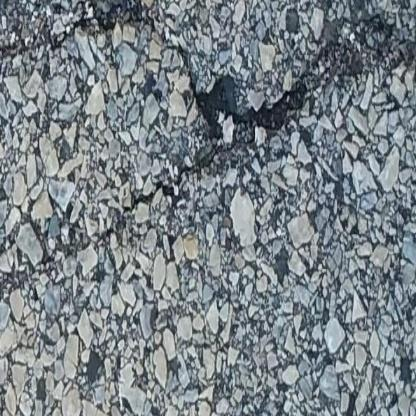Cracks: (0, 1, 416, 328)
